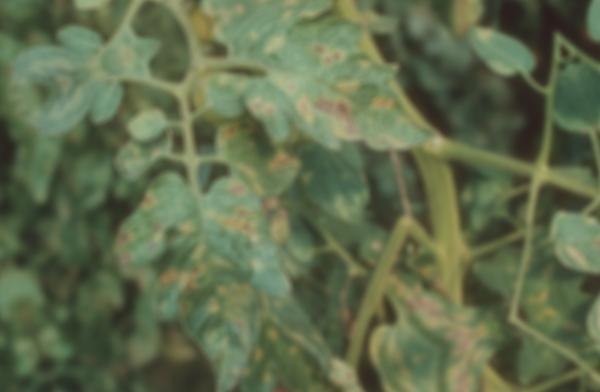Tomato mold leaf: (93, 141, 330, 392), (183, 0, 453, 217), (460, 0, 547, 99), (534, 186, 600, 293), (120, 101, 178, 154)
